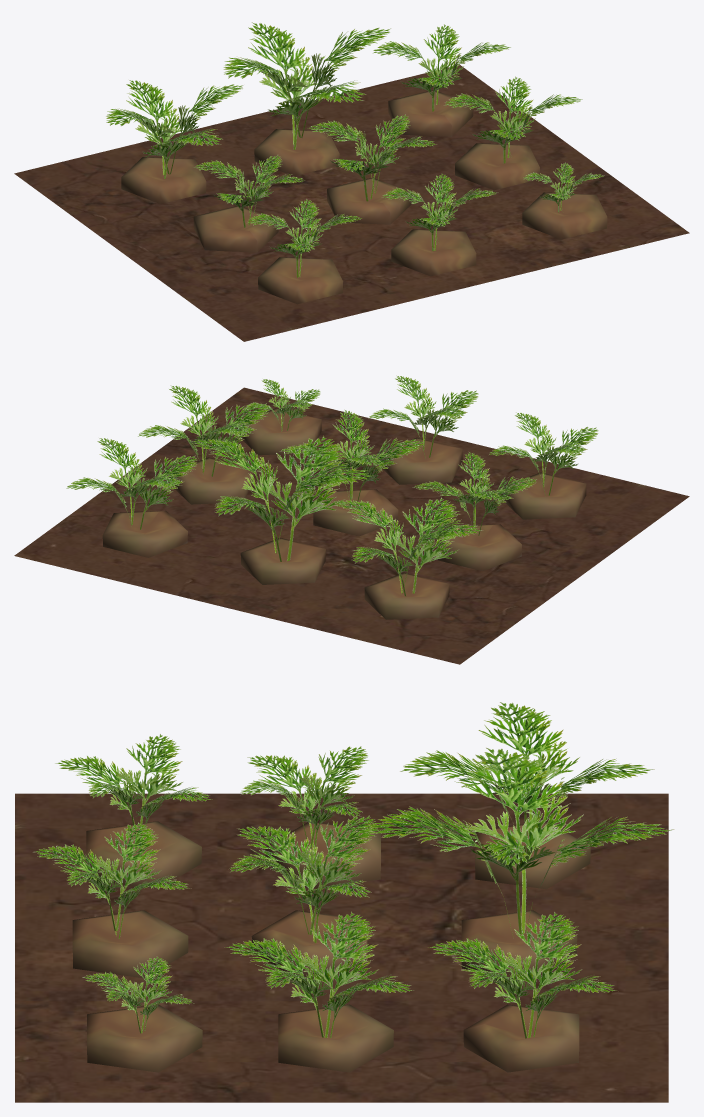
The model's file is FRM0110018.fbx.
3 views of the same model, one above another, from view 1: azimuth 30°, elevation 25°; view 2: azimuth 150°, elevation 25°; view 3: azimuth 270°, elevation 25° (orthographic). The views are drawn at different scales.
Visible parts, largest first — view 1: smFRM0110018; view 2: smFRM0110018; view 3: smFRM0110018.
Boxes of the visible parts, <box> form: smFRM0110018: <box>14,22,689,341</box>; smFRM0110018: <box>14,375,689,664</box>; smFRM0110018: <box>15,702,674,1102</box>.
Bounding box in the file's own units: 205 × 50.57 × 190.
Materials: 1 (1 with a texture image).
